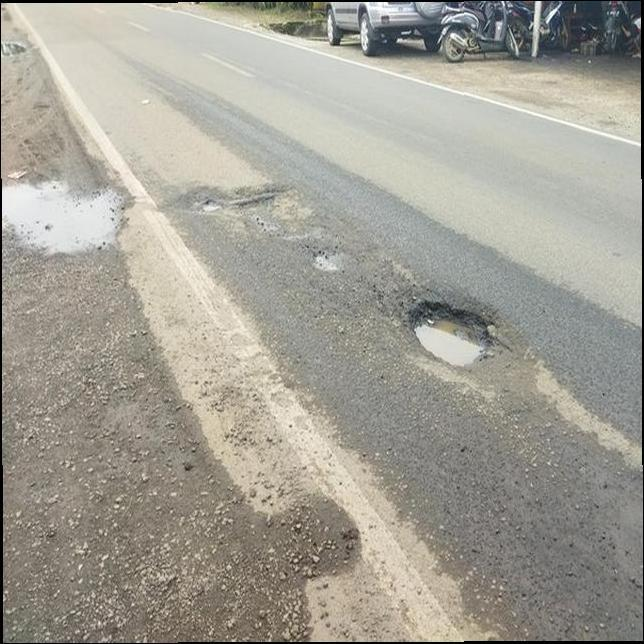Lubang: (405, 302, 490, 361)
